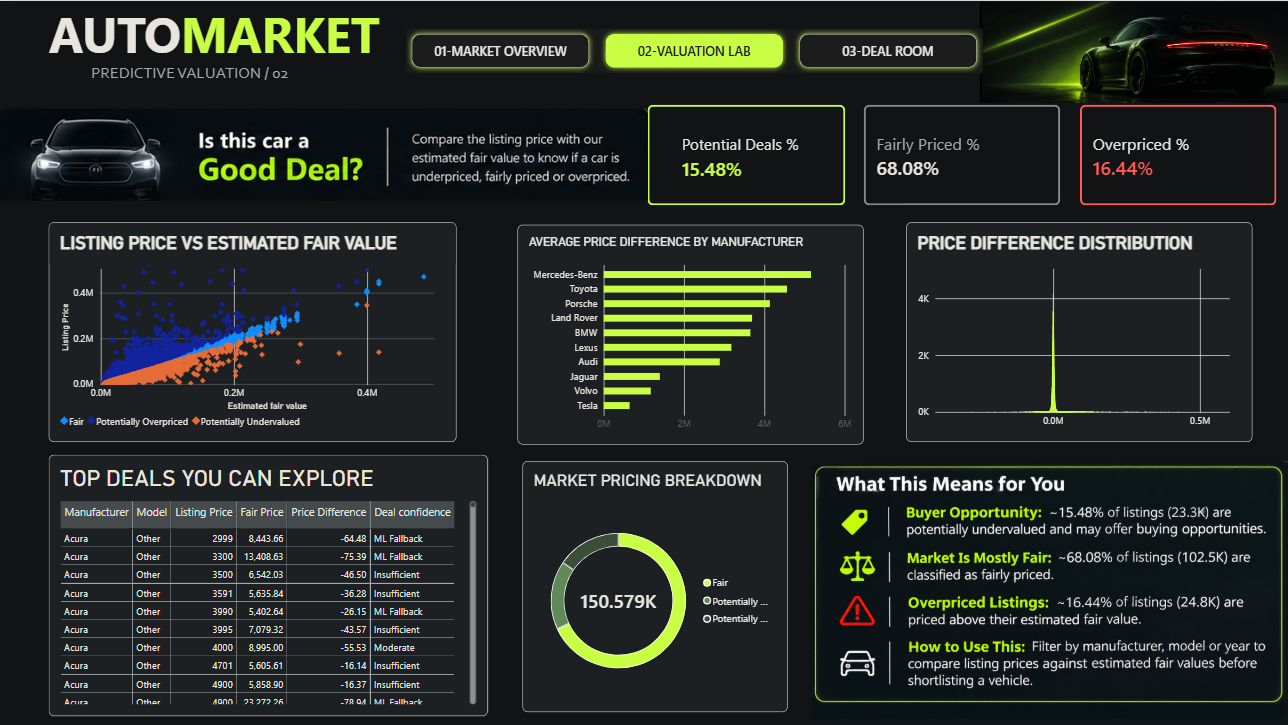

This screenshot's page, from the dashboard's own definition file:
{"tool":"powerbi","page":{"name":"02-VALUATION LAB","canvas":[1920,1080],"ordinal":1},"visuals":[{"type":"cardVisual","title":"POTENTIAL DEALS","fields":{"Data":["fair_price_results.Potential Deals %"]},"box":[960,154,293.6,149.5],"z":0},{"type":"cardVisual","fields":{"Data":["fair_price_results.Overpriced %"]},"box":[1599.4,153.1,291.8,149.5],"z":1000},{"type":"cardVisual","fields":{"Data":["fair_price_results.Fairly Priced %"]},"box":[1280,154,291.8,149.5],"z":2000},{"type":"scatterChart","title":"LISTING PRICE VS ESTIMATED FAIR VALUE","fields":{"Series":["fair_price_results.deal_status"],"X":["fair_price_results.final_fair_price"],"Y":["fair_price_results.actual_price"]},"box":[72.2,327.8,603.7,325.9],"z":3000},{"type":"clusteredColumnChart","title":"PRICE DIFFERENCE DISTRIBUTION","fields":{"Category":["fair_price_results.price_difference (bins)"],"Y":["CountNonNull(fair_price_results.price_difference_pct)"]},"box":[1342.6,327.8,513,325.9],"z":4000},{"type":"clusteredBarChart","title":"AVERAGE PRICE DIFFERENCE BY MANUFACTURER","fields":{"Category":["fair_price_results.manufacturer"],"Y":["Sum(fair_price_results.price_difference)"]},"box":[766.7,331.5,513,325.9],"z":5000},{"type":"donutChart","title":"MARKET PRICING BREAKDOWN","fields":{"Category":["fair_price_results.deal_status"],"Y":["CountNonNull(fair_price_results.deal_status)"]},"box":[774.1,681.5,392.6,372.2],"z":6000},{"type":"tableEx","title":"TOP DEALS YOU CAN EXPLORE","fields":{"Values":["fair_price_results.manufacturer","fair_price_results.model_group","fair_price_results.actual_price","fair_price_results.final_fair_price","fair_price_results.price_difference_pct","fair_price_results.deal_confidence"]},"box":[72.2,672.2,650,387],"z":7000},{"type":"image","box":[0,127.3,960,200],"z":9000},{"type":"textbox","box":[72.7,0,510.9,150.9],"z":10000},{"type":"textbox","box":[134.5,90.9,329.1,114.5],"z":11000},{"type":"image","box":[1443.6,0,476.4,150.9],"z":12000},{"type":"pageNavigator","box":[601.7,40.1,854.7,66.3],"z":12001},{"type":"image","box":[1185.2,681.5,735.2,398.1],"z":12002}]}

Visuals, with their boxes in screenshot pixels (x1, y1, x2, y2), scaled from the page's 1920x1080 canvas onto the 1288x725 screenshot:
"POTENTIAL DEALS" cardVisual: region(644, 103, 841, 204)
cardVisual - fair_price_results.Overpriced %: region(1073, 103, 1269, 203)
cardVisual - fair_price_results.Fairly Priced %: region(859, 103, 1054, 204)
"LISTING PRICE VS ESTIMATED FAIR VALUE" scatterChart: region(48, 220, 453, 439)
"PRICE DIFFERENCE DISTRIBUTION" clusteredColumnChart: region(901, 220, 1245, 439)
"AVERAGE PRICE DIFFERENCE BY MANUFACTURER" clusteredBarChart: region(514, 223, 858, 441)
"MARKET PRICING BREAKDOWN" donutChart: region(519, 457, 783, 707)
"TOP DEALS YOU CAN EXPLORE" tableEx: region(48, 451, 484, 711)
image: region(0, 85, 644, 220)
textbox: region(49, 0, 391, 101)
textbox: region(90, 61, 311, 138)
image: region(968, 0, 1287, 101)
pageNavigator: region(404, 27, 977, 71)
image: region(795, 457, 1287, 724)
